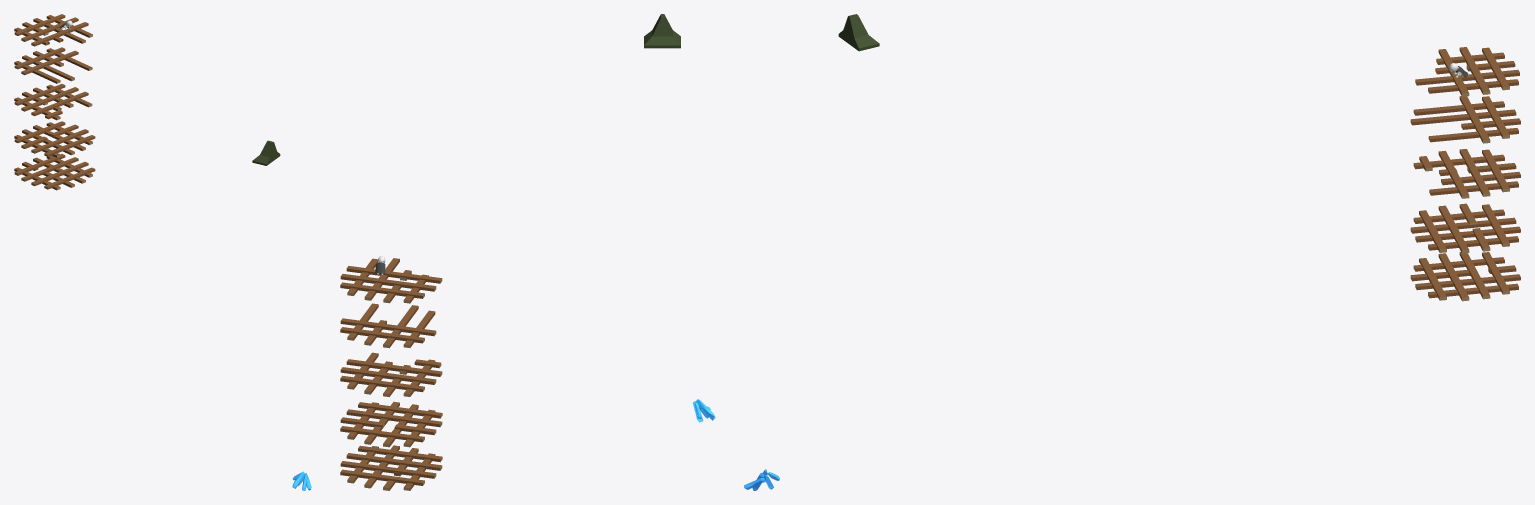
3 views of the same model, side by side, from view 1: azimuth 30°, elevation 25°; view 2: azimuth 150°, elevation 25°; view 3: azimuth 270°, elevation 25° (orthographic). The views are drawn at different scales.
Parts seen in each view (by area): view 1: Box307_brown_0, Box307_brown2_0, Box15624_roof1_0; view 2: Box307_brown_0, Box15624_roof1_0, Box307_brown2_0; view 3: Box307_brown_0, Box15624_roof1_0.
Boxes of the visible parts, x1=… form: Box307_brown_0: x1=14, y1=14, x2=95, y2=190; Box307_brown2_0: x1=14, y1=32, x2=92, y2=190; Box15624_roof1_0: x1=252, y1=140, x2=280, y2=165; Box307_brown_0: x1=340, y1=258, x2=441, y2=490; Box15624_roof1_0: x1=644, y1=14, x2=680, y2=48; Box307_brown2_0: x1=347, y1=277, x2=442, y2=490; Box307_brown_0: x1=1410, y1=47, x2=1520, y2=300; Box15624_roof1_0: x1=838, y1=14, x2=879, y2=51.
Size of the model in its own units: 796 by 3761 by 5574.
